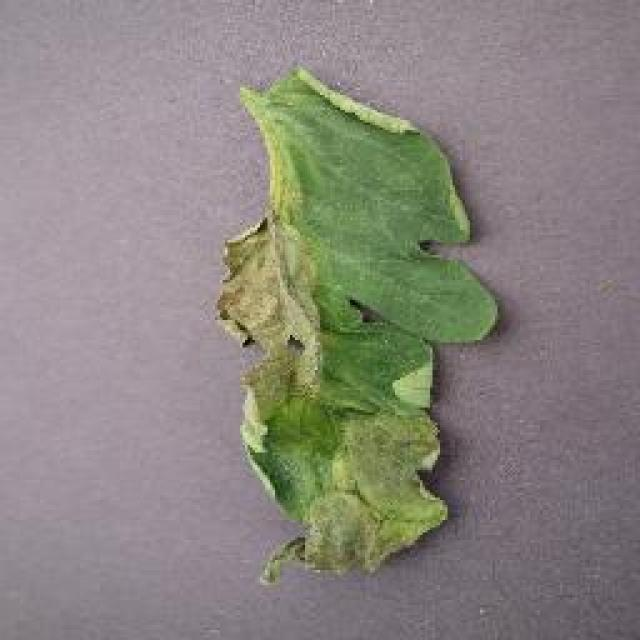Tomato Late Blight: (202, 97, 390, 615)
